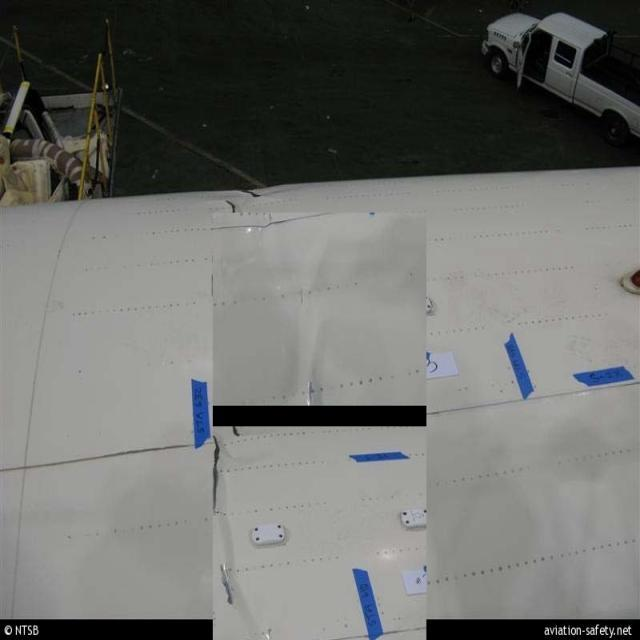crack: (207, 438, 223, 518), (221, 566, 236, 612), (225, 198, 240, 214), (230, 427, 244, 443)
